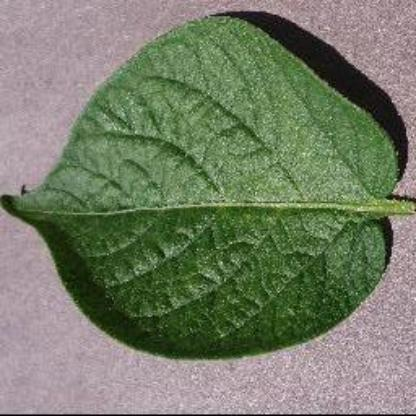Healthy-plant: (0, 10, 416, 364)
